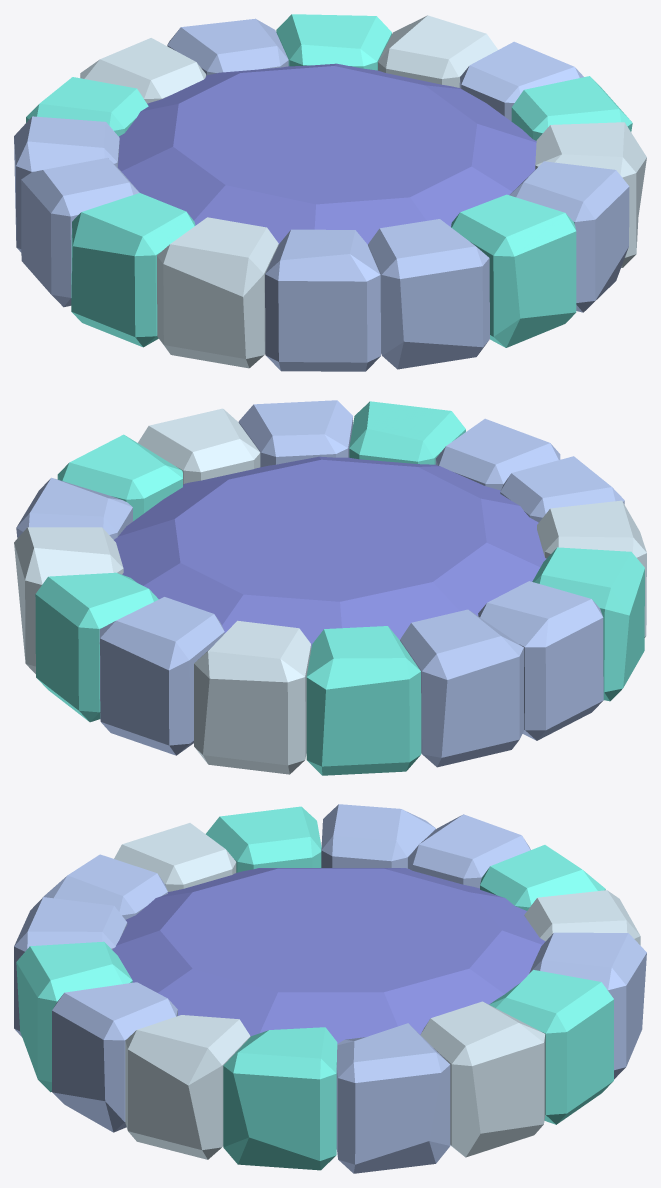
The model's file is Platform2.fbx.
The picture shows the model from 3 angles, top to bottom: view 1: azimuth 30°, elevation 25°; view 2: azimuth 150°, elevation 25°; view 3: azimuth 270°, elevation 25°; orthographic projection. The views are drawn at different scales.
Visible parts, largest first — view 1: Platform2; view 2: Platform2; view 3: Platform2.
Boxes of the visible parts, left/top/right/bottom form: Platform2: left=14, top=14, right=646, bottom=371; Platform2: left=14, top=400, right=646, bottom=775; Platform2: left=14, top=804, right=646, bottom=1173.
Bounding box in the file's own units: 400 × 96.05 × 400.
